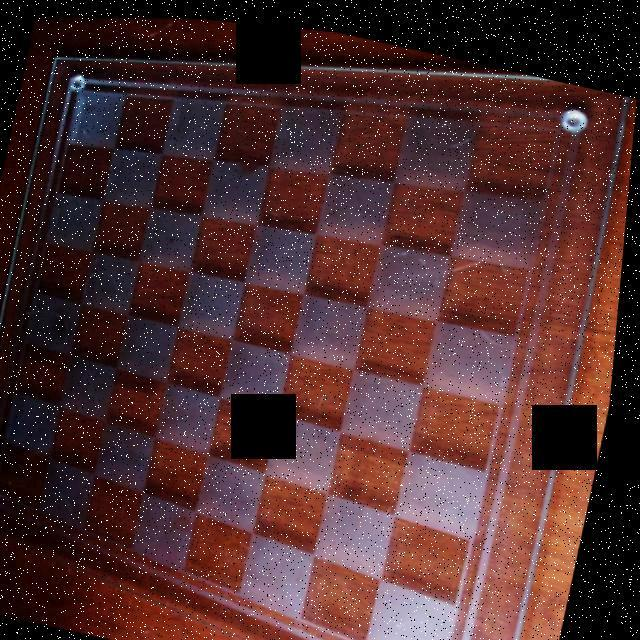chess-table-corners: (518, 77, 606, 156), (52, 55, 112, 117), (0, 476, 41, 540), (427, 634, 497, 640)
